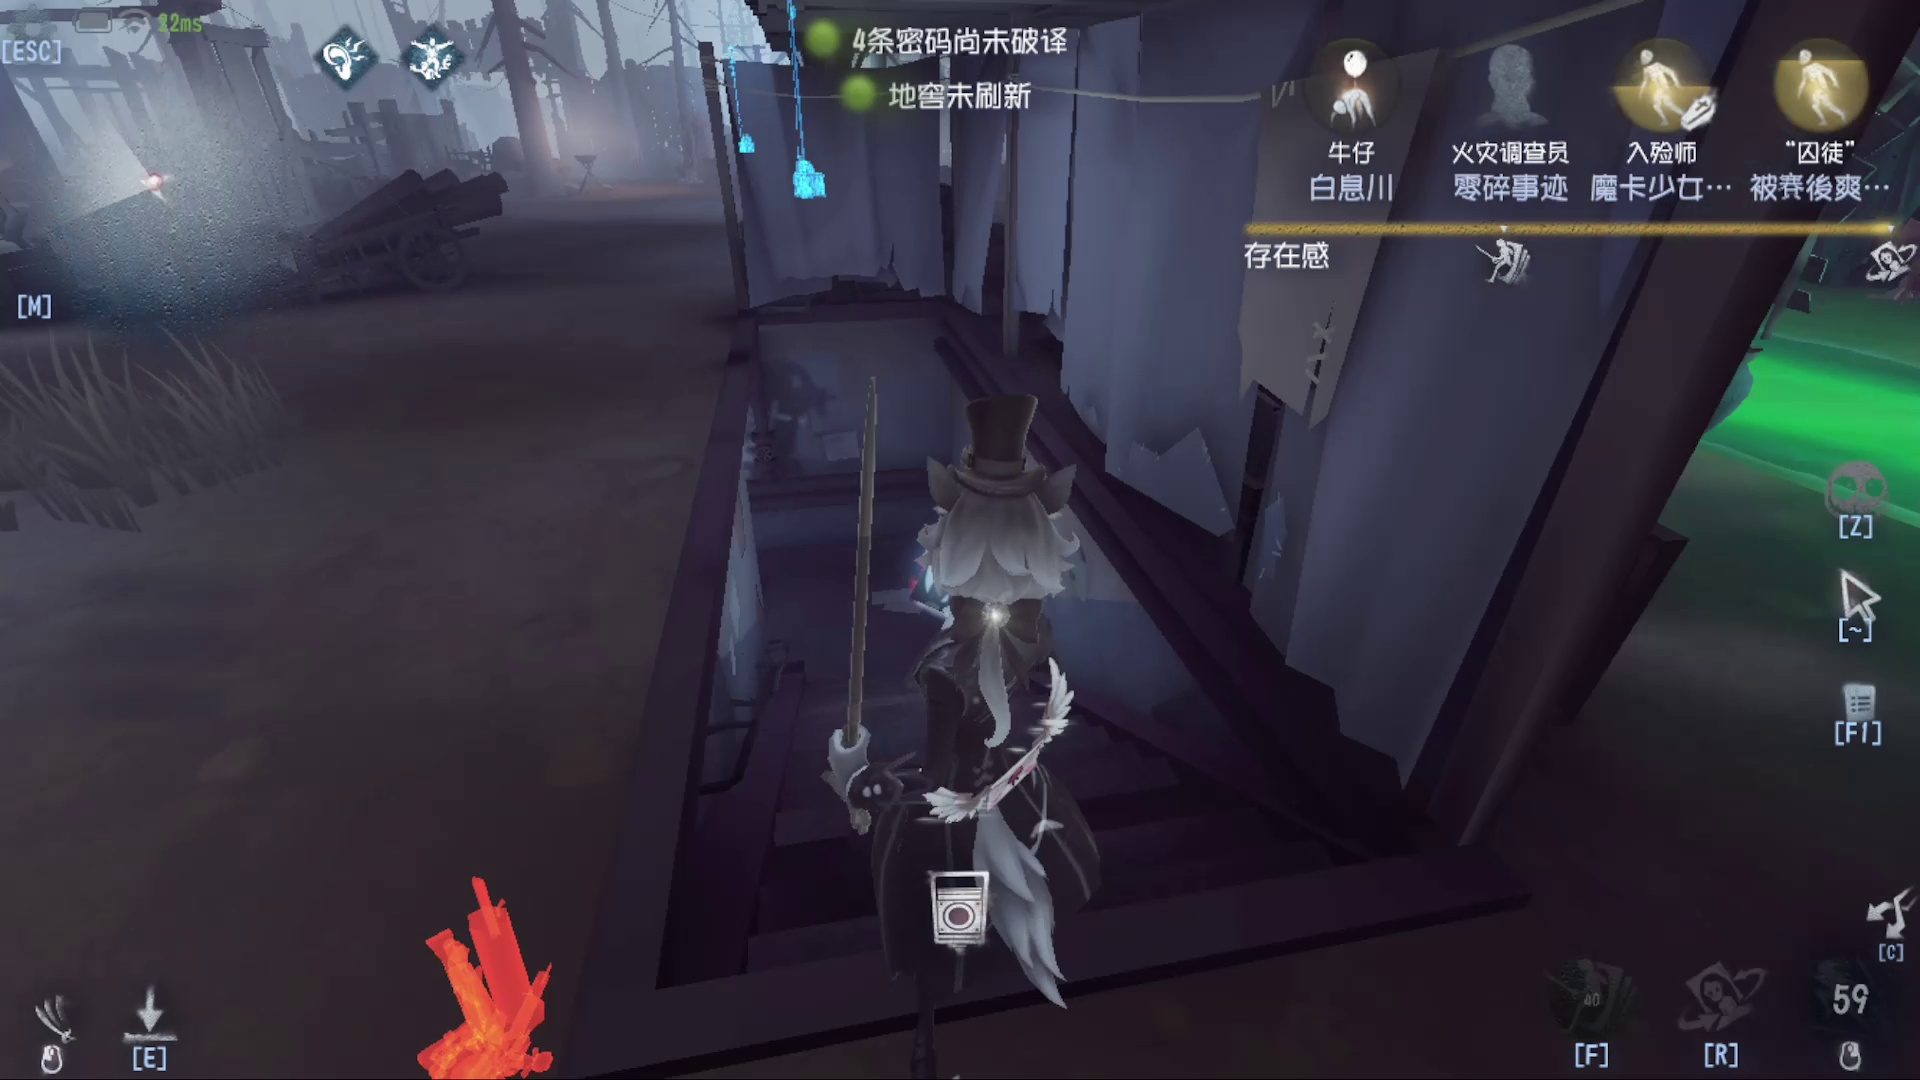密码机: (750, 7, 836, 216)
